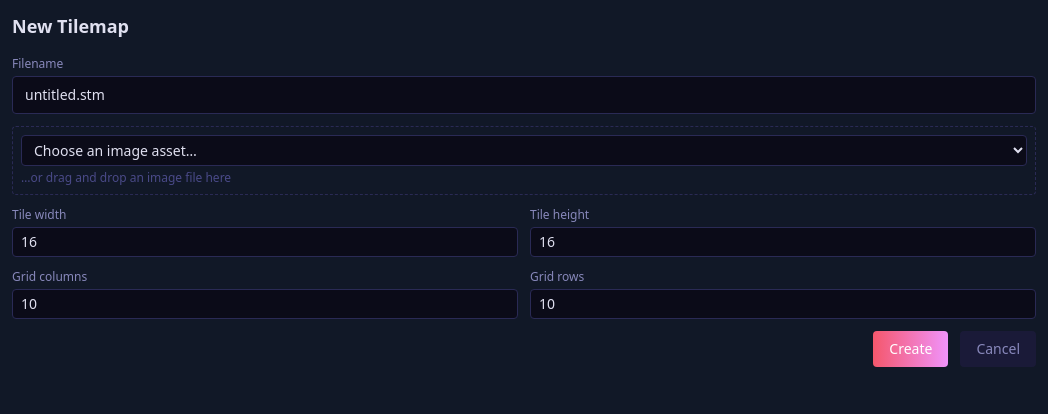
Test: NewTilemapDialog › rejects a filename that already exists in the project
Replace the text in the field showing "untitled.stm" with "level1.stm" at (524, 95), box left=12, top=76, right=1036, bottom=114
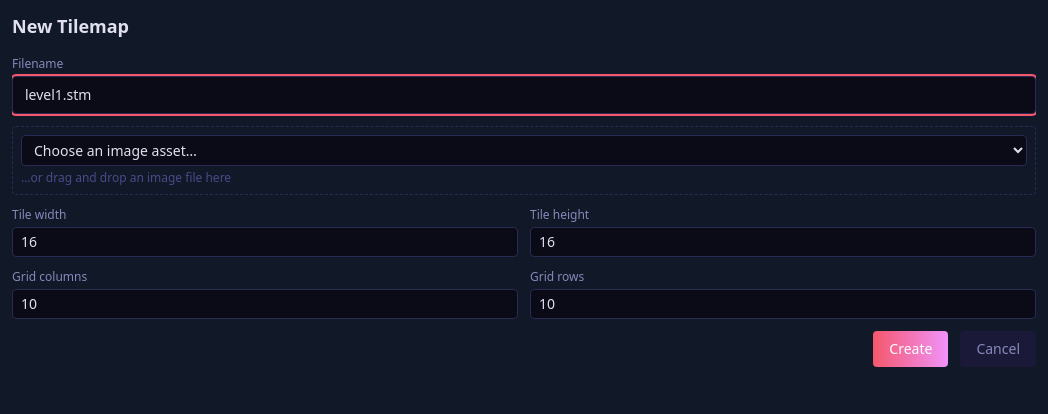
Select "tileset.png" in the dropdown named "Tileset image" at (524, 150), box left=21, top=135, right=1027, bottom=166
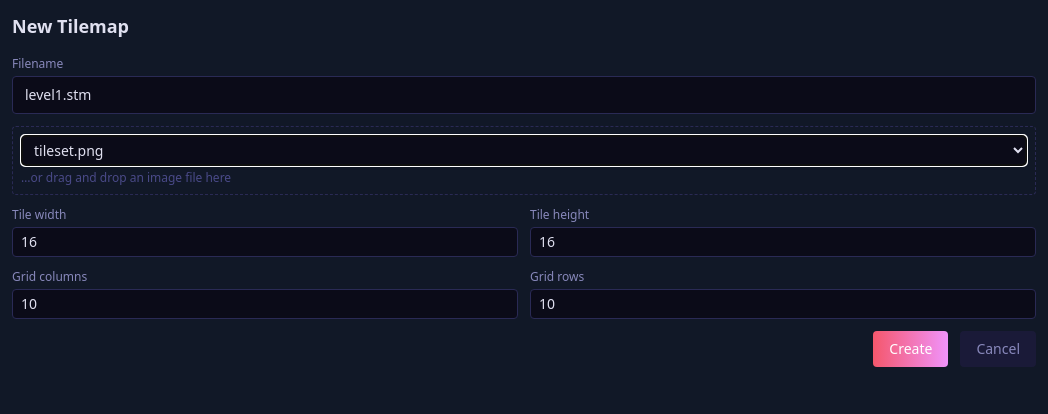
Click the button "Create" at (911, 349), box left=873, top=331, right=948, bottom=367
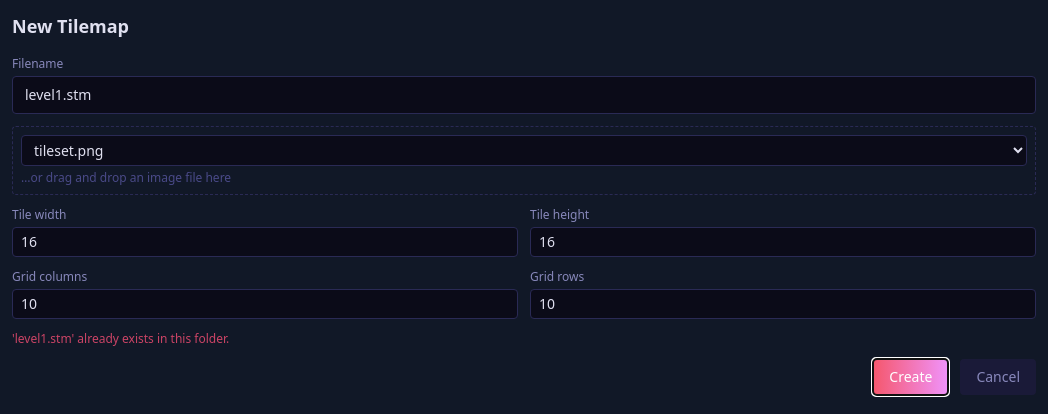
Expected: the text "'level1.stm' already exists in this folder." is shown, left=12, top=330, right=229, bottom=347
